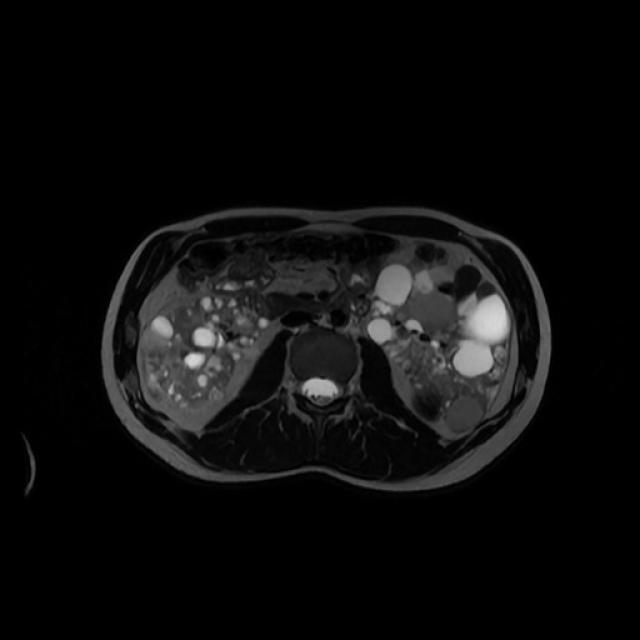sag: (143, 293, 267, 411)
sol: (367, 259, 514, 436)
